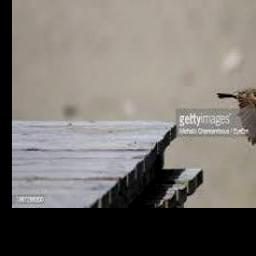Sparrow: (216, 90, 256, 146)
